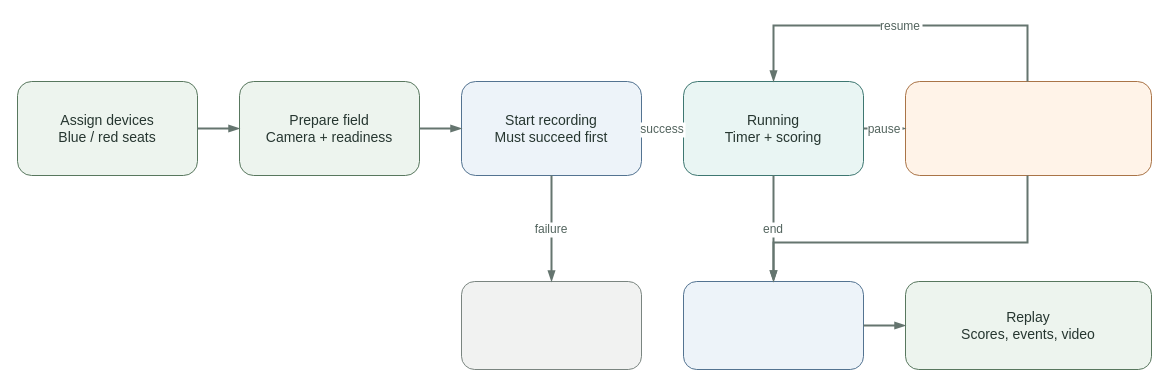
Some shapes in this 1169 by 387 pixel diagram are drawn without their labels. The shapes that lost their labels are listed below. From the top down, each one's centre as x and y in pixels, then its label:
At (x=1028, y=128): "Paused Timer stops; control and recording continue".
At (x=551, y=325): "Start blocked Camera / record failed".
At (x=773, y=325): "Finish Finalize match + MP4".
